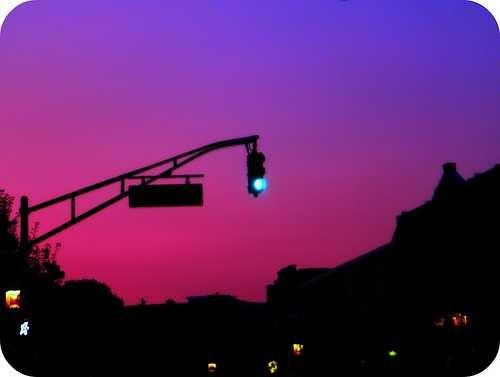green: (246, 151, 268, 198), (246, 177, 267, 195)
